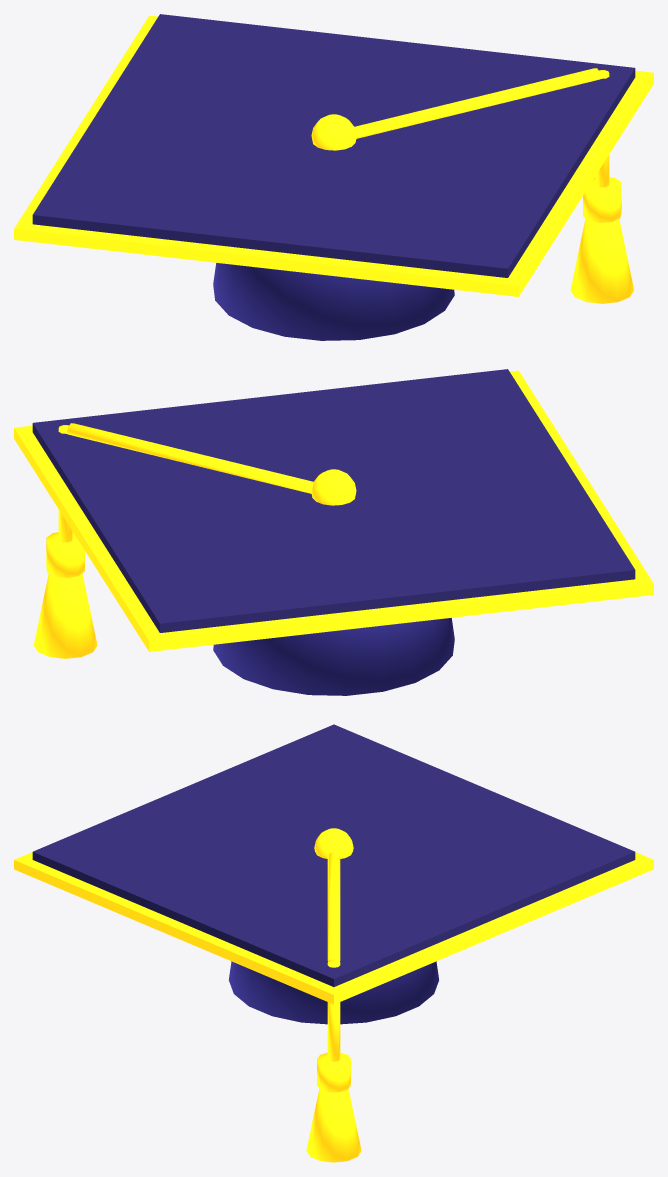
The model's file is gradcap.glb.
The picture shows the model from 3 angles, top to bottom: view 1: azimuth 30°, elevation 25°; view 2: azimuth 150°, elevation 25°; view 3: azimuth 270°, elevation 25°; orthographic projection. The views are drawn at different scales.
Parts seen in each view (by area): view 1: board, rim, crown, tassel; view 2: board, rim, crown, tassel; view 3: board, rim, tassel, crown.
Boxes of the visible parts, box(x1,y1,x2,y2) form: board: box(32, 14, 635, 277); rim: box(14, 15, 653, 296); crown: box(213, 263, 454, 340); tassel: box(311, 68, 634, 303); board: box(32, 369, 635, 632); rim: box(14, 370, 653, 651); crown: box(213, 618, 454, 695); tassel: box(33, 423, 356, 658); board: box(32, 724, 635, 986); rim: box(14, 852, 653, 1004); tassel: box(306, 828, 361, 1162); crown: box(229, 961, 438, 1024).
Size of the model in its own units: 2.43 by 0.87 by 2.43.
